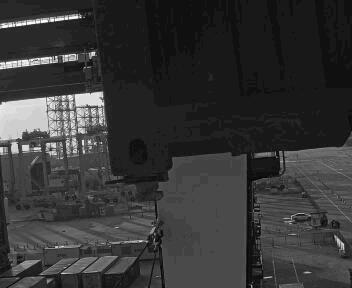twist_lock_1: (116, 171, 174, 210)
